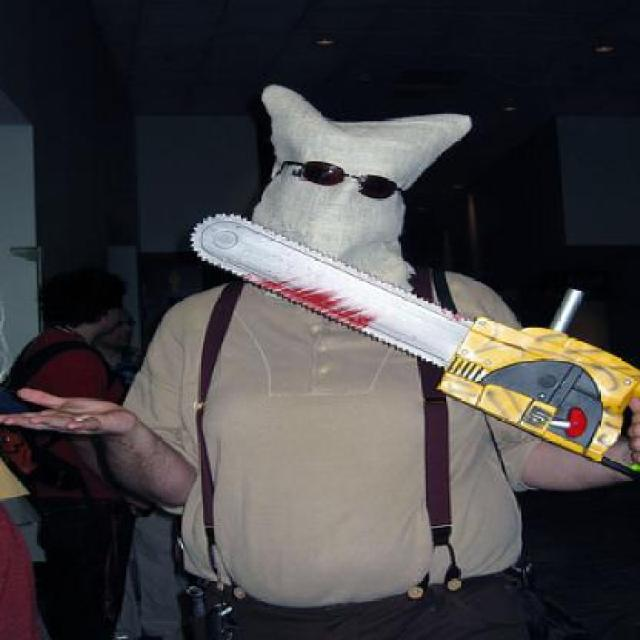Chainsaw: (189, 212, 640, 478)
